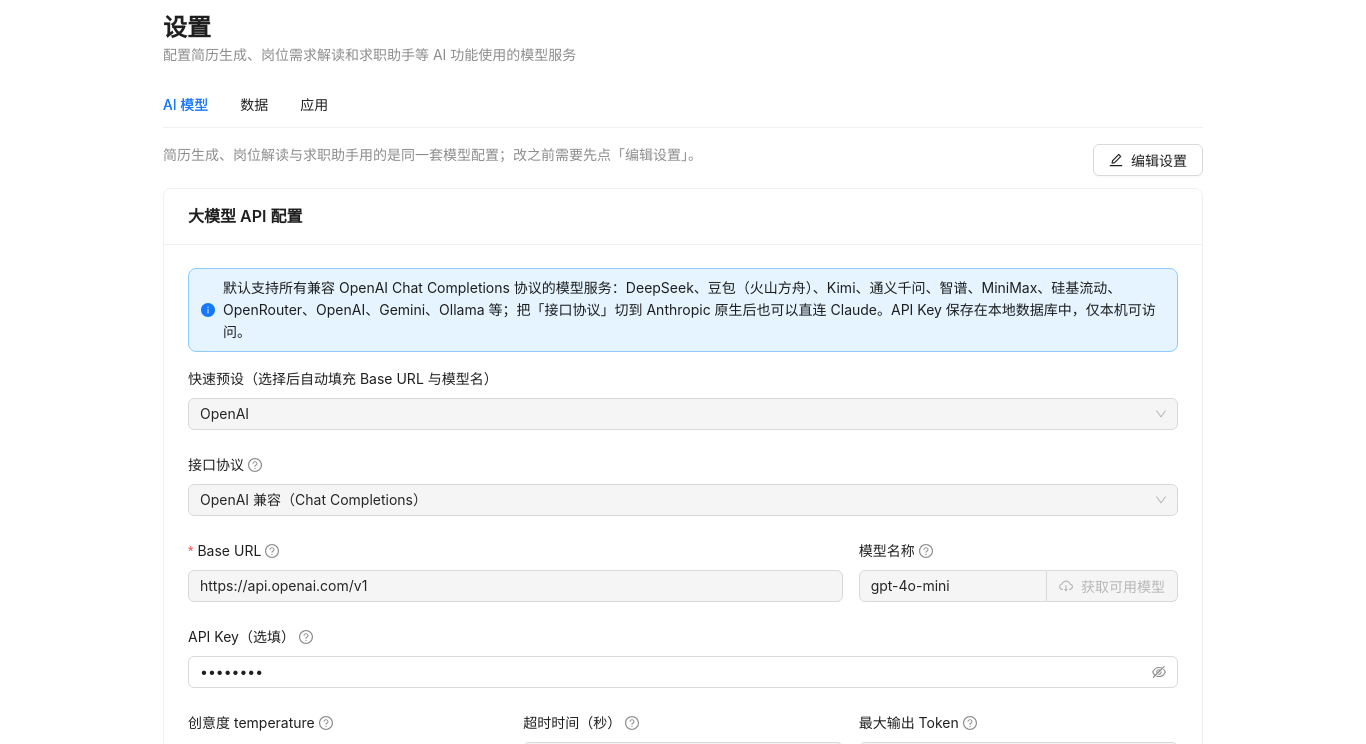
Test: SettingsPage parameter help › shows help for 创意度 temperature on hover
The width and height of the screenshot is (1366, 744).
Hover over the picture named "question-circle" next to "创意度 temperature" at (326, 723), box [319,716,333,730]
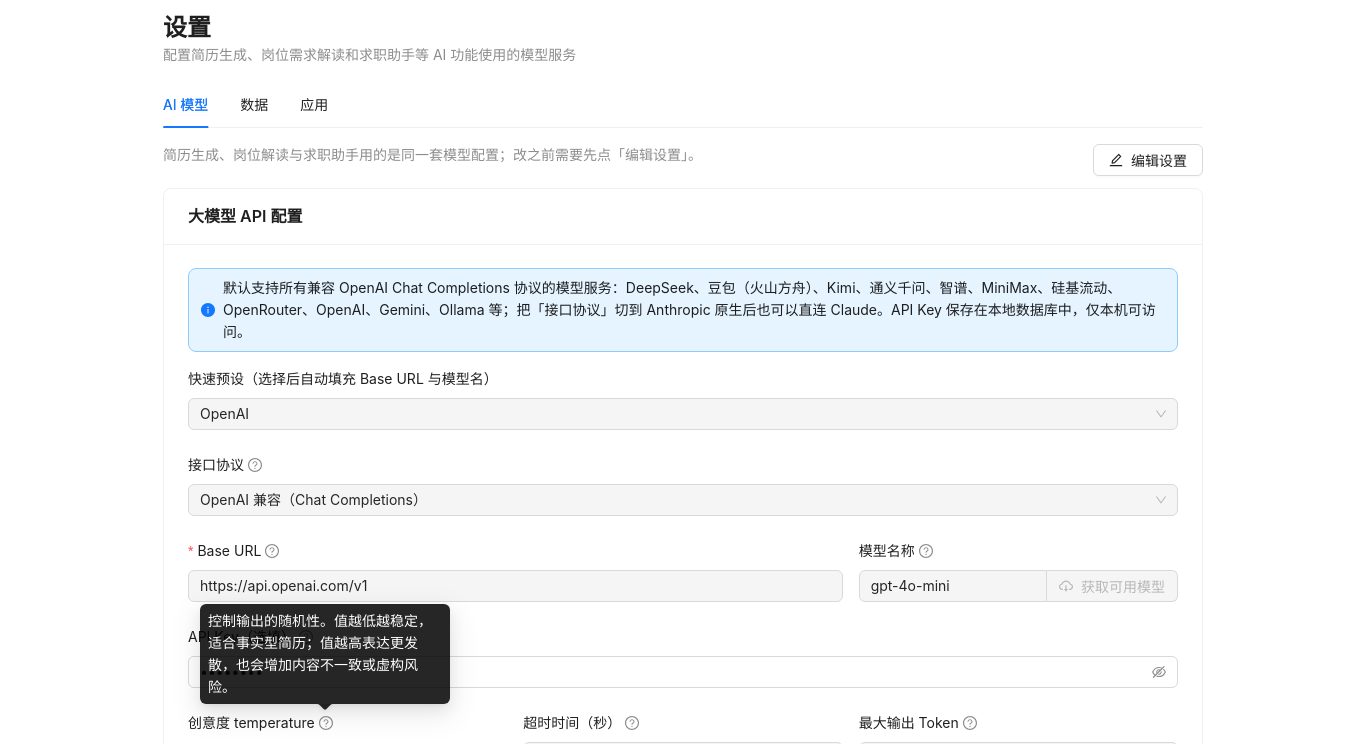
Check: the tooltip reads "控制输出的随机性。值越低越稳定，适合事实型简历；值越高表达更发散，也会增加内容不一致或虚构风险。", box [208,612,432,695]
